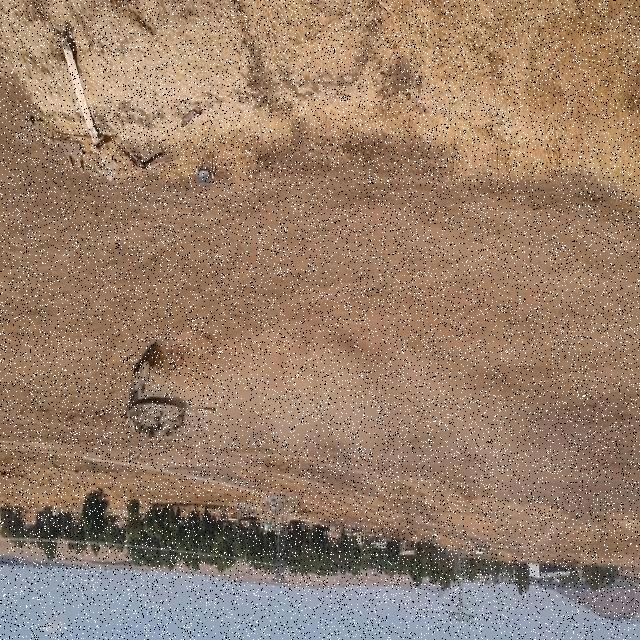MIL_MBT: (120, 346, 223, 456)
